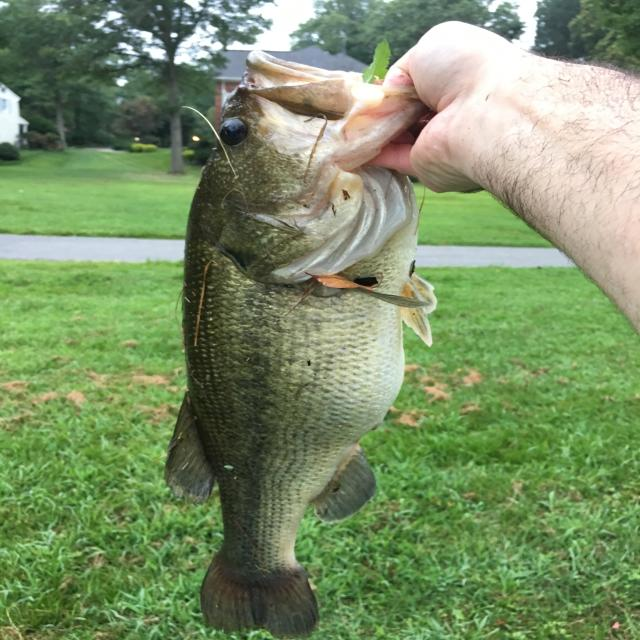Bass - Largemouth: (165, 52, 436, 636)
